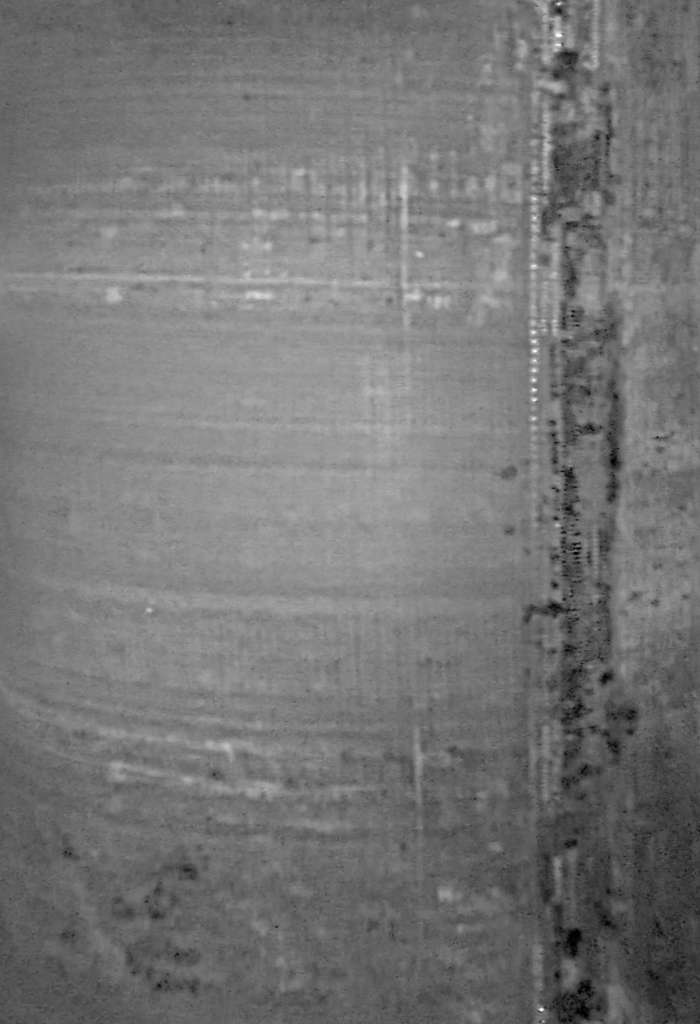splice: (520, 3, 641, 1024)
